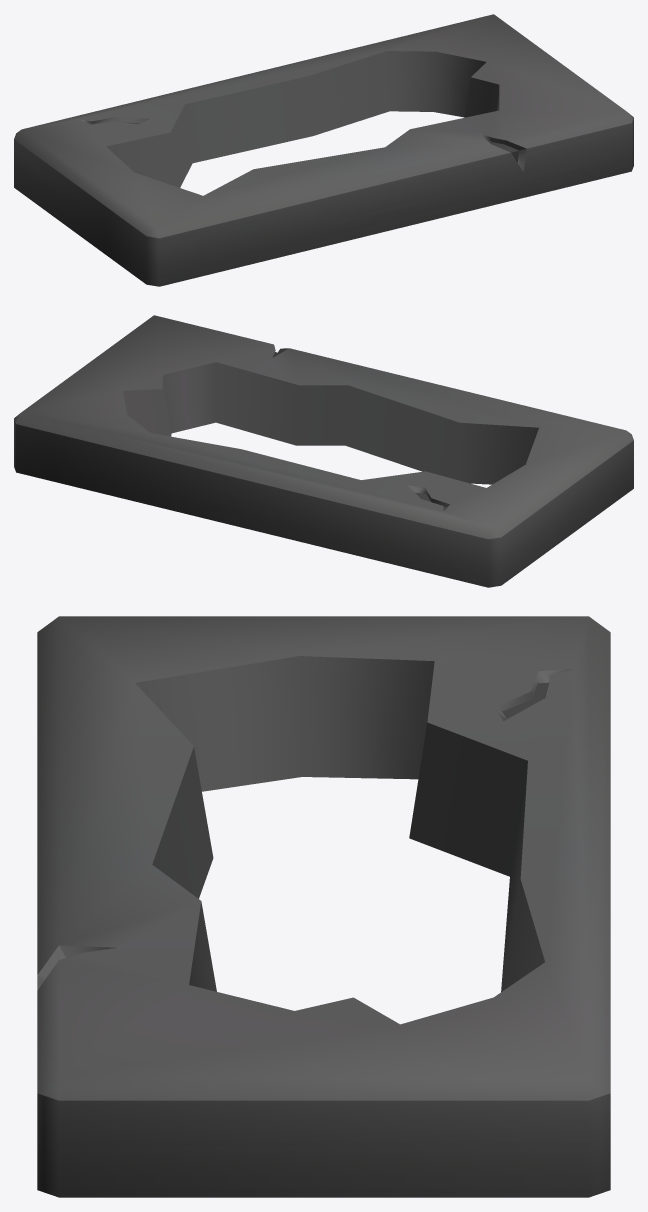
File: Grave_1_3.glb
The picture shows the model from 3 angles, top to bottom: view 1: azimuth 30°, elevation 25°; view 2: azimuth 150°, elevation 25°; view 3: azimuth 270°, elevation 25°; orthographic projection. The views are drawn at different scales.
Parts seen in each view (by area): view 1: Grave_1_3; view 2: Grave_1_3; view 3: Grave_1_3.
Part boxes in pixels (bbox=[...]): Grave_1_3: bbox=[14, 14, 633, 286]; Grave_1_3: bbox=[14, 315, 633, 587]; Grave_1_3: bbox=[37, 616, 610, 1197].
Size of the model in its own units: 1.69 by 0.1866 by 0.8601.
1 material, 1 textured.
